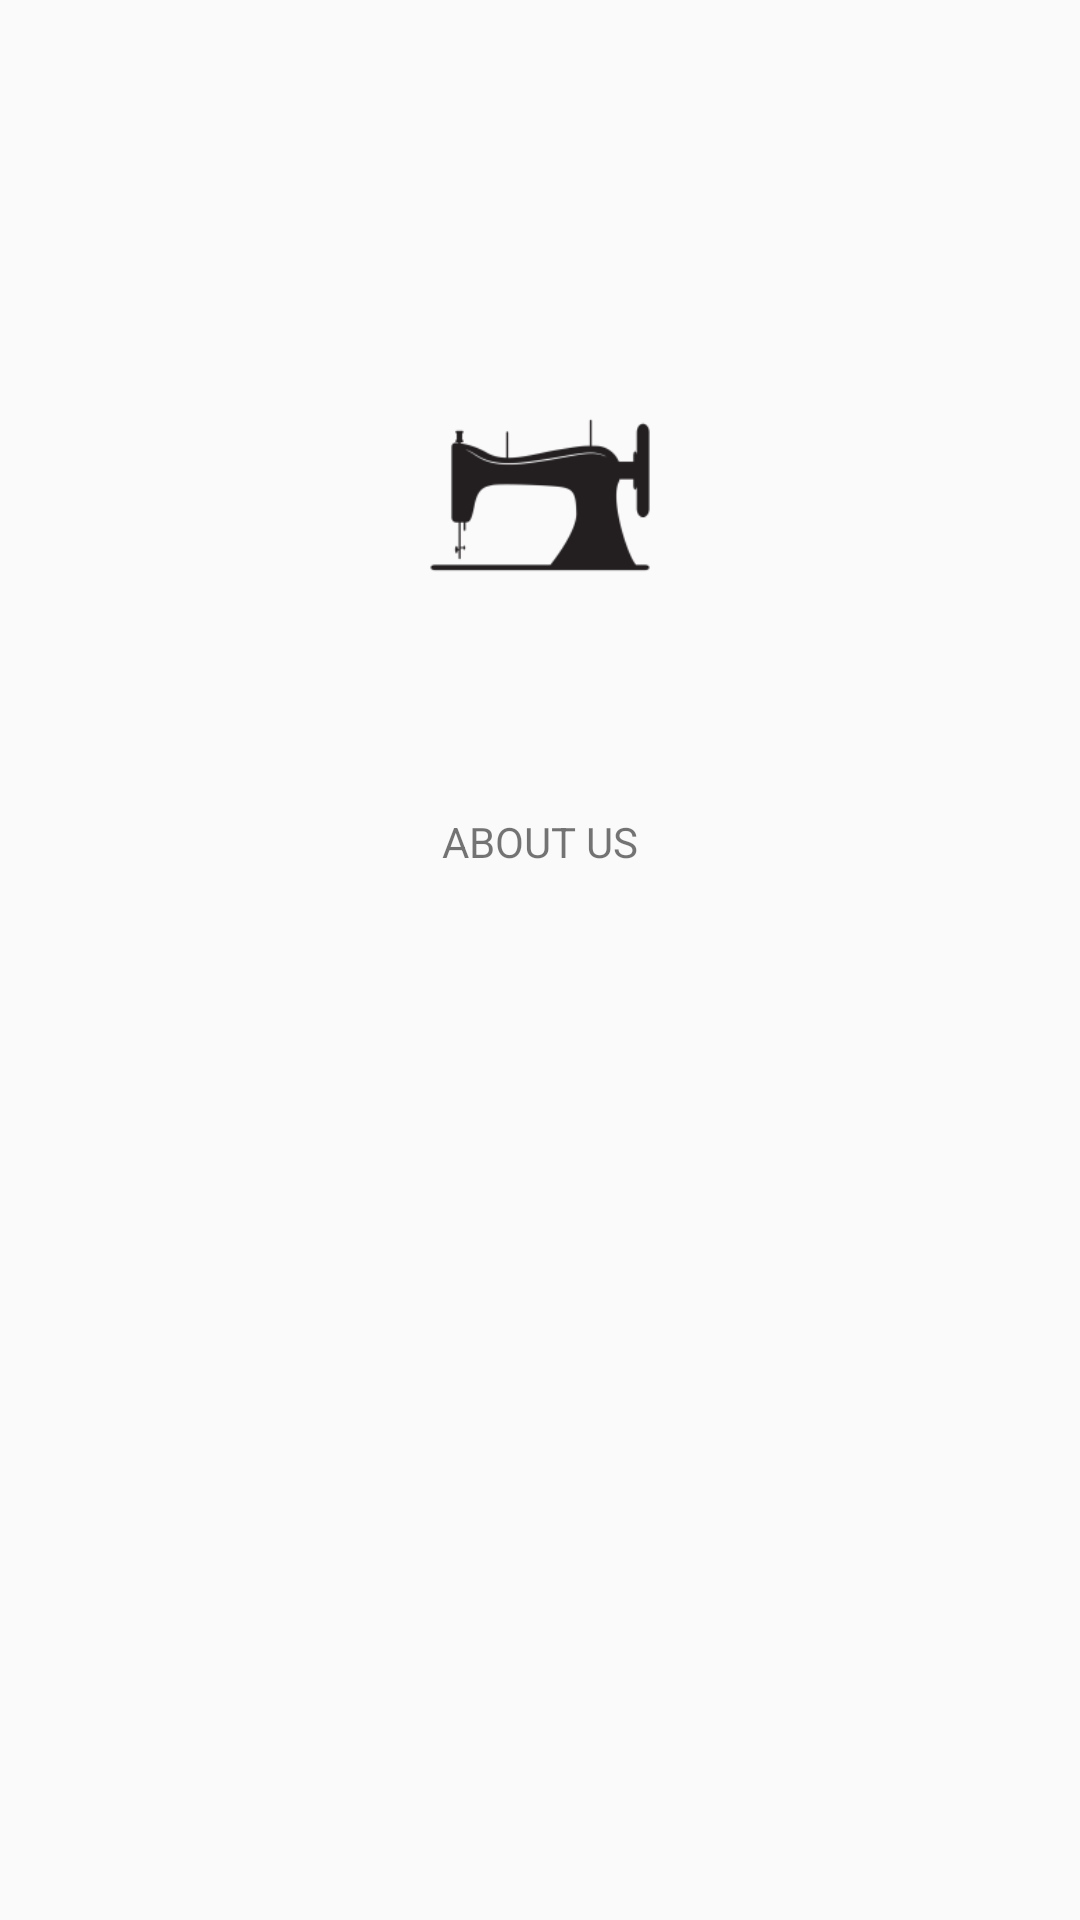

Screen size 1080×1920. Icon name, then its box in pixels as (x1, y1, x2, y2):
tailor app: (430, 419, 650, 571)
